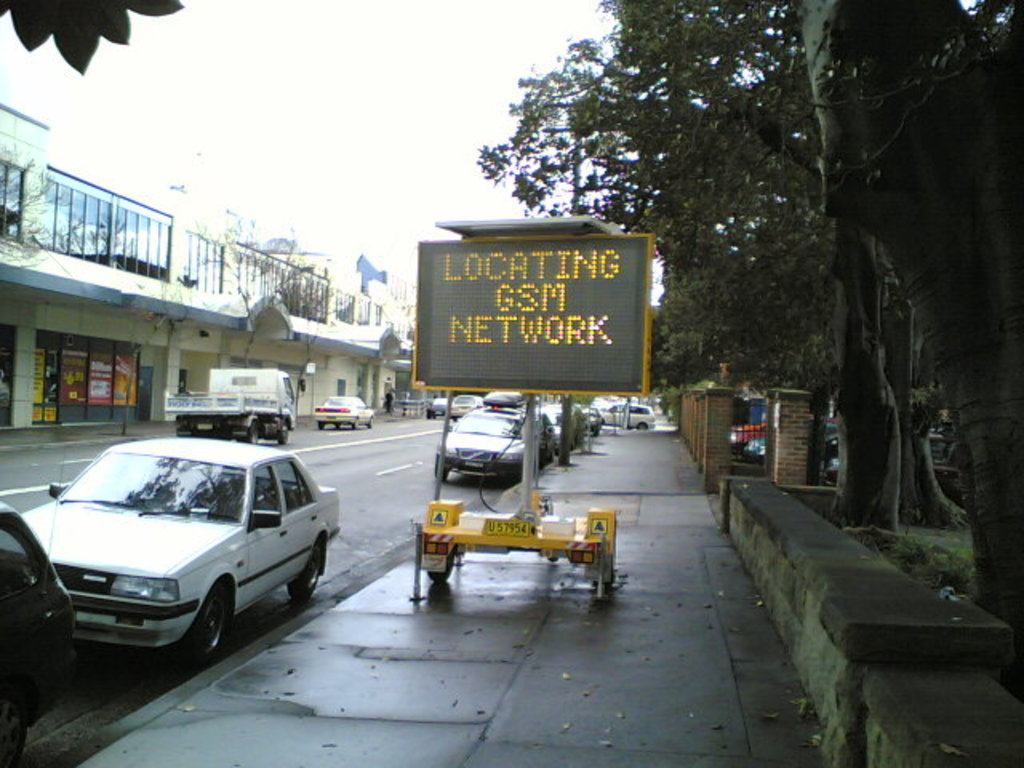Car: (19, 444, 329, 667), (0, 492, 86, 766), (433, 404, 551, 492), (531, 398, 588, 460), (315, 390, 377, 432), (593, 398, 660, 436), (444, 392, 492, 425), (422, 392, 460, 423)
